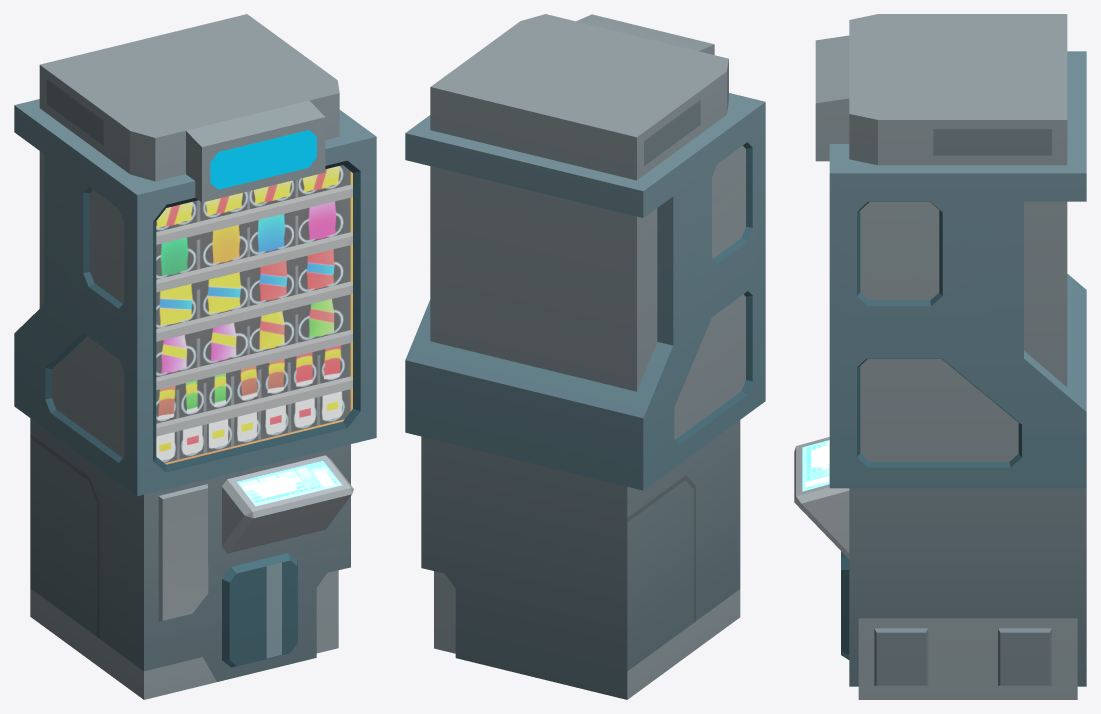
The model's file is Vending_Machine_001.glb.
The picture shows the model from 3 angles, left to right: view 1: azimuth 30°, elevation 25°; view 2: azimuth 150°, elevation 25°; view 3: azimuth 270°, elevation 25°; orthographic projection. The views are drawn at different scales.
Visible parts, largest first — view 1: Vending_Machine_001; view 2: Vending_Machine_001; view 3: Vending_Machine_001.
Part boxes in pixels (box(x1,y1,x2,y2)): Vending_Machine_001: box(14, 14, 376, 699); Vending_Machine_001: box(405, 14, 765, 699); Vending_Machine_001: box(794, 14, 1086, 699).
Bounding box in the file's own units: 0.9 × 2.01 × 0.9106.
Materials: 5 (5 with a texture image).
